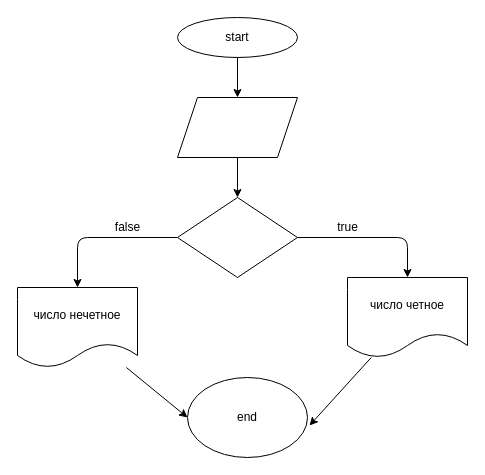
Image size: 485x475. Some labels were removed from this diagram. The shapes that lost their labels are listed below. From the top down, each one's centre as x and y in pixels, then its label:
pixel 237 127: int = a
pixel 237 237: a%2 ==0?
